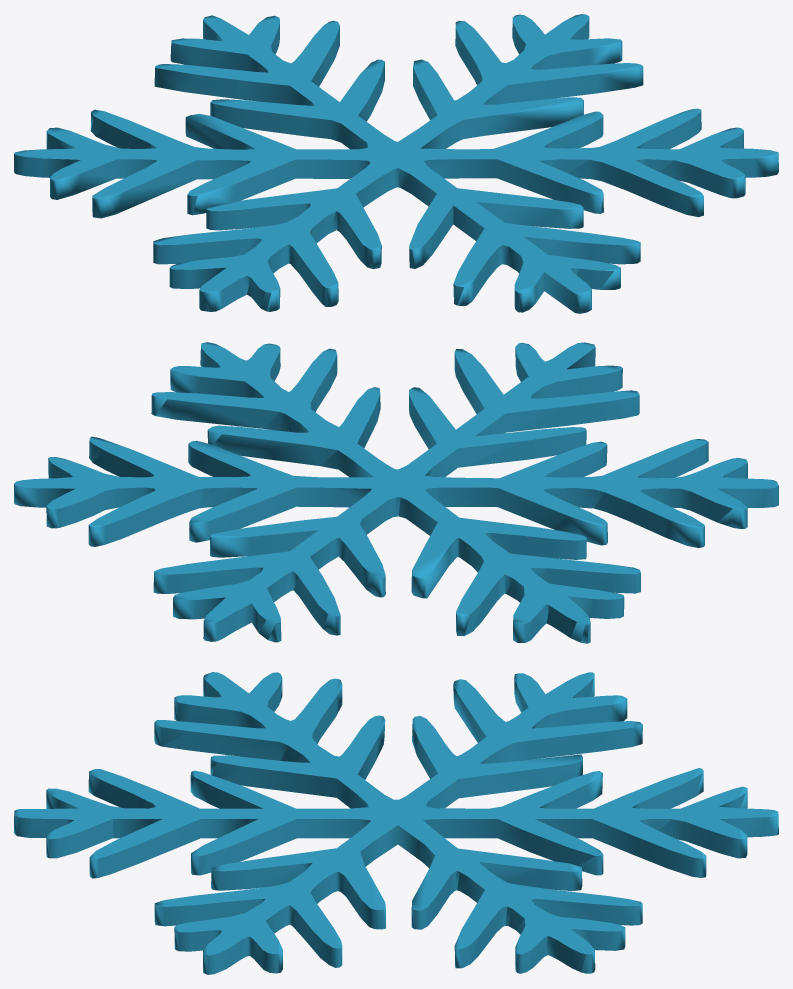
The model's file is SnowCrystal.obj.
3 views of the same model, one above another, from view 1: azimuth 30°, elevation 25°; view 2: azimuth 150°, elevation 25°; view 3: azimuth 270°, elevation 25° (orthographic).
Parts seen in each view (by area): view 1: 1; view 2: 1; view 3: 1.
Boxes of the visible parts, left/top/right/bottom form: 1: left=14, top=14, right=778, bottom=313; 1: left=14, top=342, right=778, bottom=643; 1: left=14, top=672, right=778, bottom=974.
Bounding box in the file's own units: 2.08 × 0.066 × 2.37.
